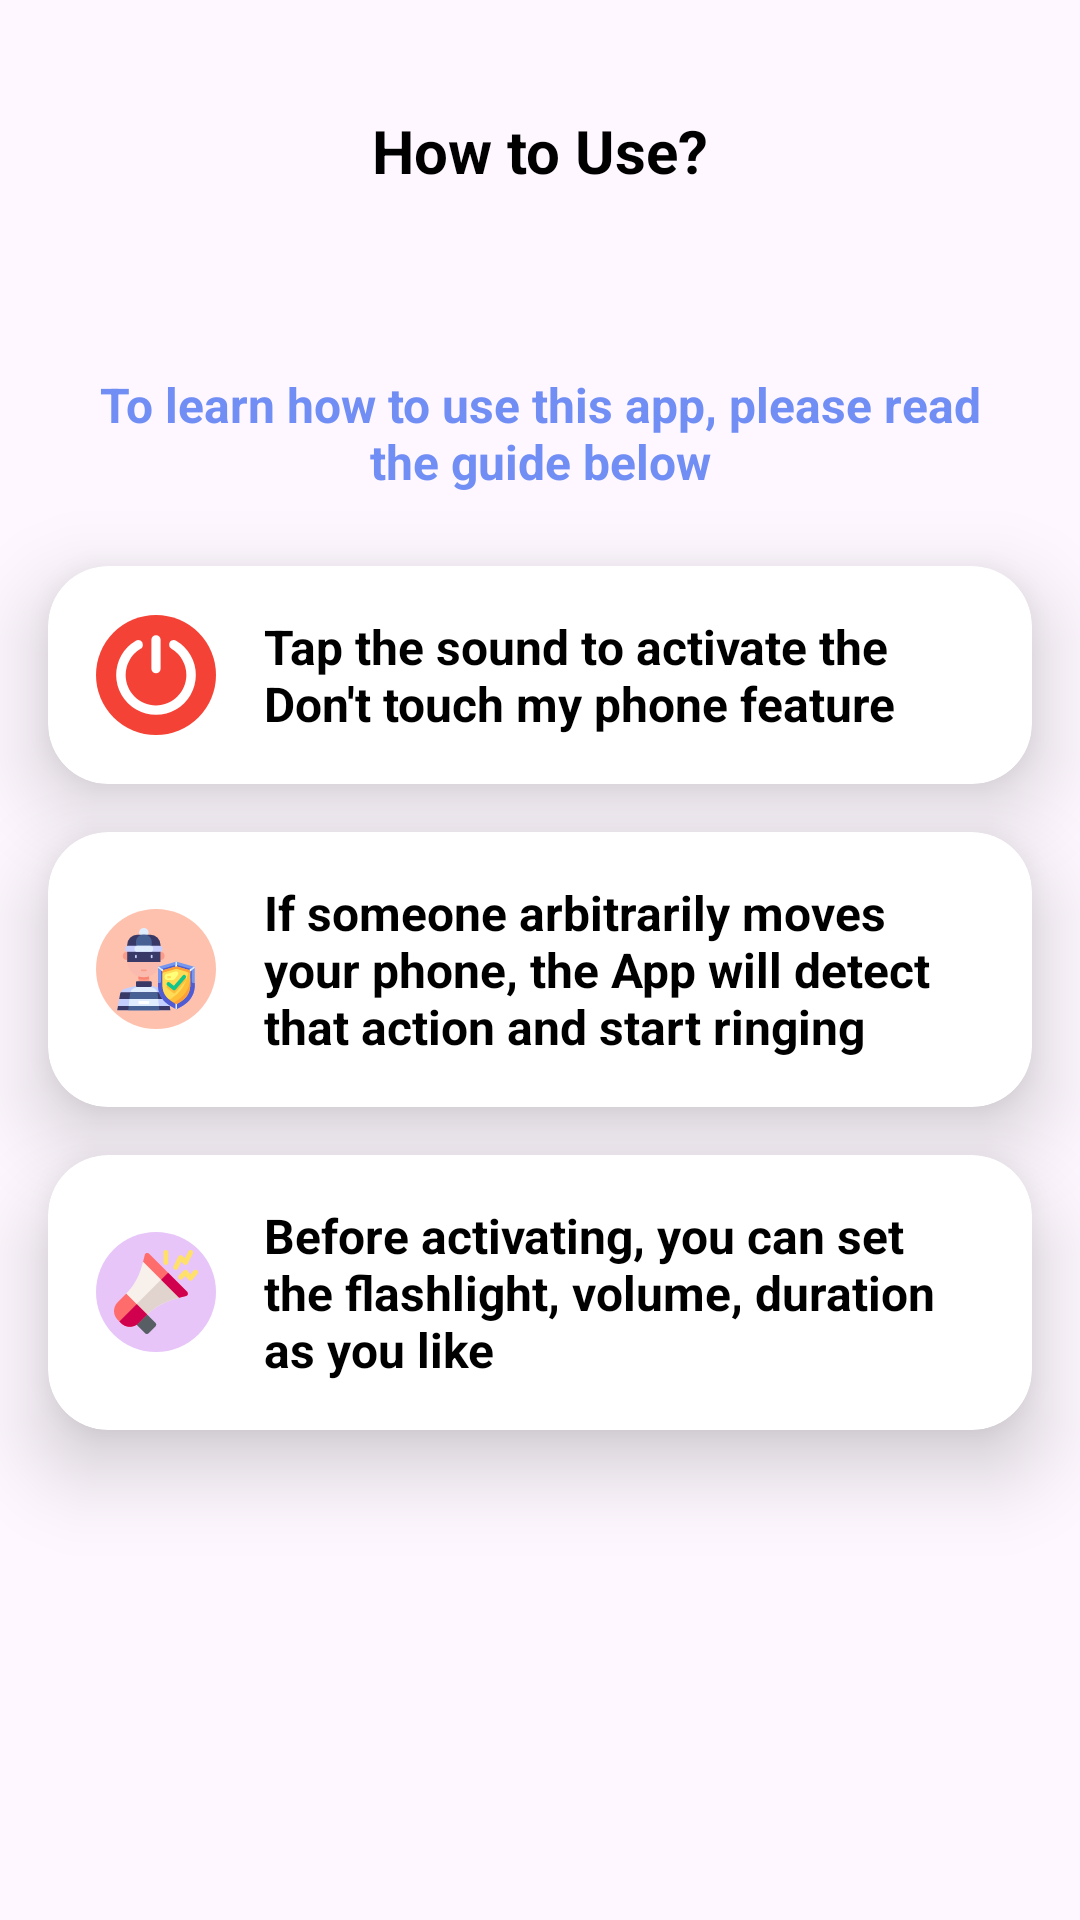

Where icons sit on this 1080*1920 app screen, as {"left": x1, "top": y1, "right": x2, "bottom": y2}:
power on: {"left": 96, "top": 615, "right": 216, "bottom": 735}
shield: {"left": 96, "top": 909, "right": 216, "bottom": 1029}
